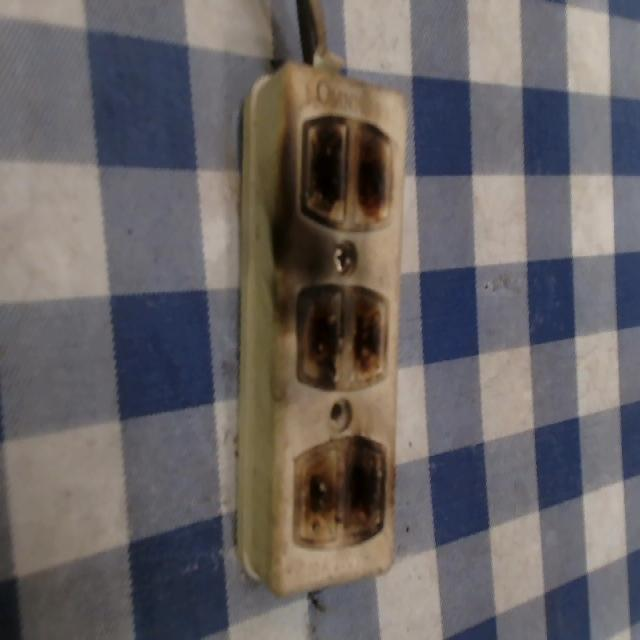-: (298, 108, 397, 231), (289, 434, 388, 550), (294, 277, 390, 395)
